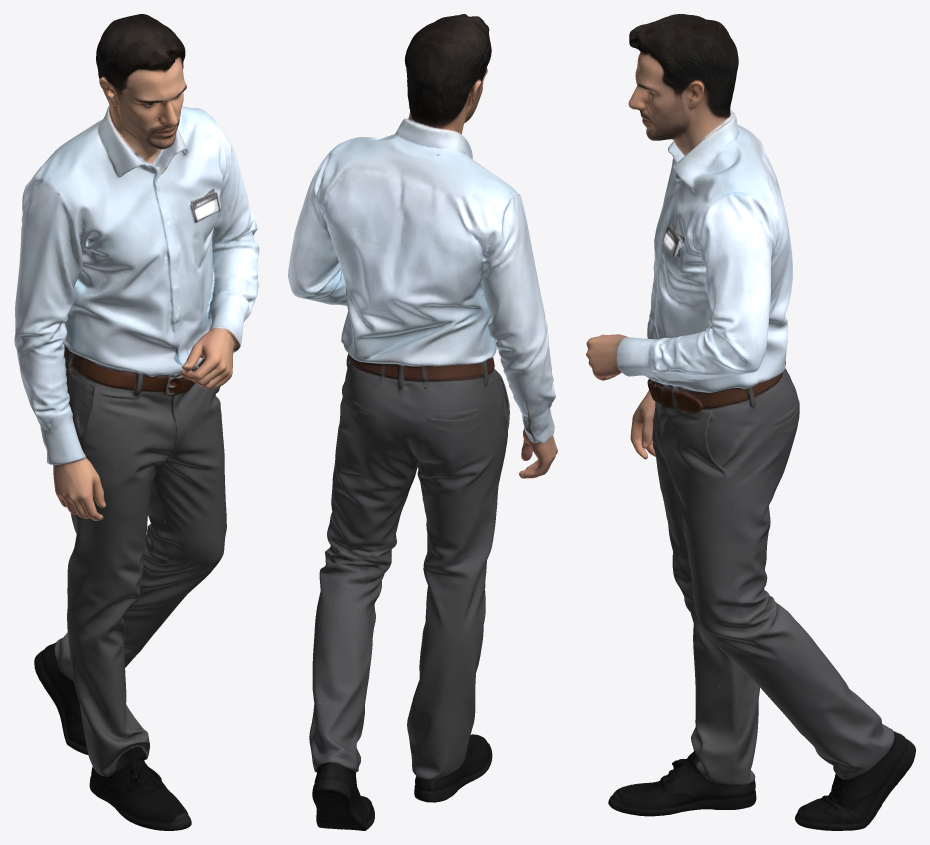
The model's file is person-business.glb.
3 renders of one model, left to right at view 1: azimuth 30°, elevation 25°; view 2: azimuth 150°, elevation 25°; view 3: azimuth 270°, elevation 25°, orthographic. The views are drawn at different scales.
Visible parts, largest first — view 1: mesh_0; view 2: mesh_0; view 3: mesh_0.
Boxes of the visible parts, bbox=[...] form: mesh_0: bbox=[14, 14, 259, 830]; mesh_0: bbox=[288, 14, 557, 830]; mesh_0: bbox=[586, 14, 915, 830].
Bounding box in the file's own units: 0.6326 × 1.9 × 0.7205.
1 material, 1 textured.
